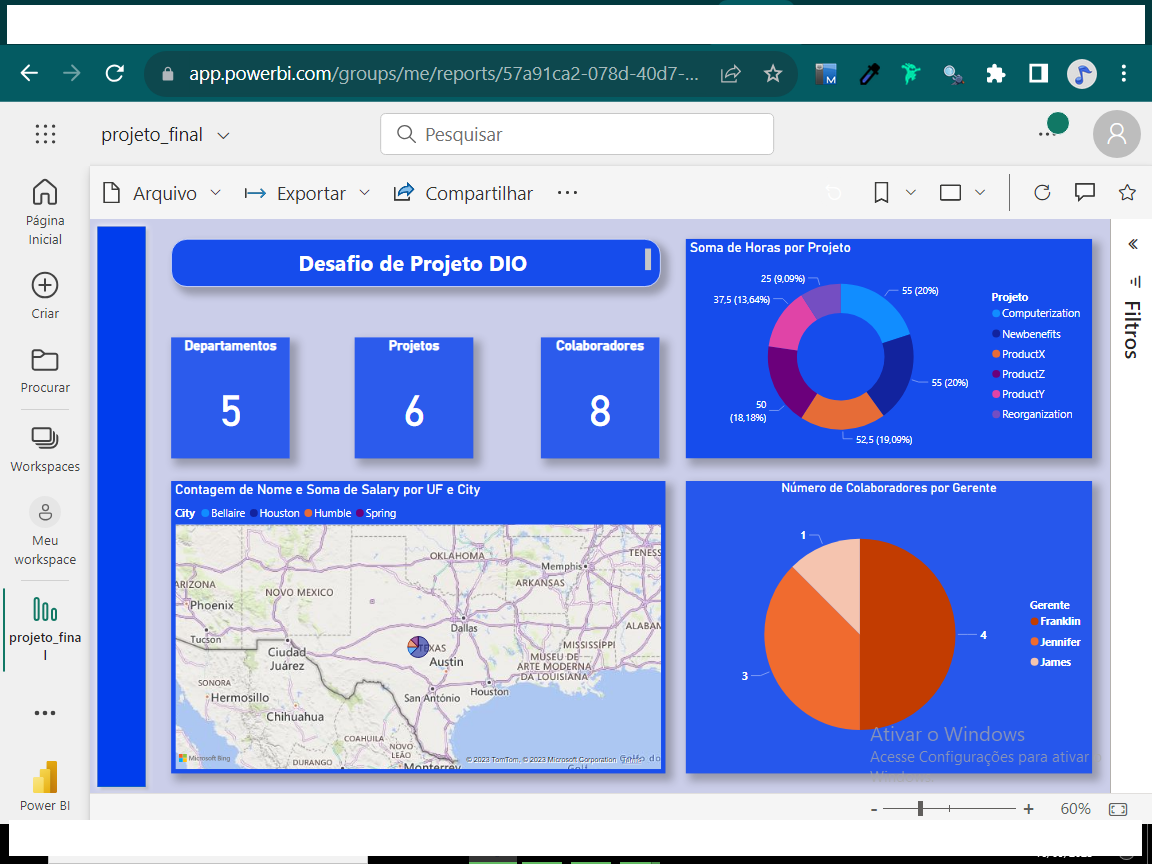

The page's visual inventory and layout, read from the dashboard file:
{"tool":"powerbi","page":{"name":"Página 1","canvas":[1280,720],"ordinal":0},"visuals":[{"type":"pieChart","fields":{"Category":["colaborador_gerente.Nome_Gerente"],"Y":["CountNonNull(colaborador_gerente.Colaborador)"]},"box":[746.9,329.1,509.5,367.1],"z":0},{"type":"shape","box":[0,0,79.1,721.6],"z":1000},{"type":"map","fields":{"Category":["employee_departament.UF"],"Series":["employee_departament.City"],"Size":["CountNonNull(employee_departament.Nome)"]},"box":[101.3,329.1,620.3,367.1],"z":2000},{"type":"card","title":"Projetos","fields":{"Values":["CountNonNull(azure_company project.Pname)"]},"box":[332.3,148.7,148.7,151.9],"z":3000},{"type":"card","title":"Departamentos","fields":{"Values":["CountNonNull(azure_company dept_locations.Dlocation)"]},"box":[101.3,148.7,148.7,151.9],"z":4000},{"type":"donutChart","fields":{"Category":["azure_company project.Pname"],"Y":["Sum(azure_company works_on.Hours)"]},"box":[746.9,25.3,509.5,275.3],"z":5000},{"type":"card","title":"Colaboradores","fields":{"Values":["CountNonNull(employee_departament.Id funcionário)"]},"box":[566.5,148.7,148.7,151.9],"z":5001},{"type":"textbox","box":[101.3,25.3,614,60.1],"z":5002}]}

Visuals, with their boxes on the page's 1280x720 design canvas (x1, y1, x2, y2). These are canvas units, not pixel positions in the 1152x864 screenshot, which may show the page scaled, cropped or inside an application window:
pieChart - colaborador_gerente.Nome_Gerente x CountNonNull(colaborador_gerente.Colaborador): [x1=747, y1=329, x2=1256, y2=696]
shape: [x1=0, y1=0, x2=79, y2=722]
map - employee_departament.UF x employee_departament.City: [x1=101, y1=329, x2=722, y2=696]
"Projetos" card: [x1=332, y1=149, x2=481, y2=301]
"Departamentos" card: [x1=101, y1=149, x2=250, y2=301]
donutChart - azure_company project.Pname x Sum(azure_company works_on.Hours): [x1=747, y1=25, x2=1256, y2=301]
"Colaboradores" card: [x1=566, y1=149, x2=715, y2=301]
textbox: [x1=101, y1=25, x2=715, y2=85]
